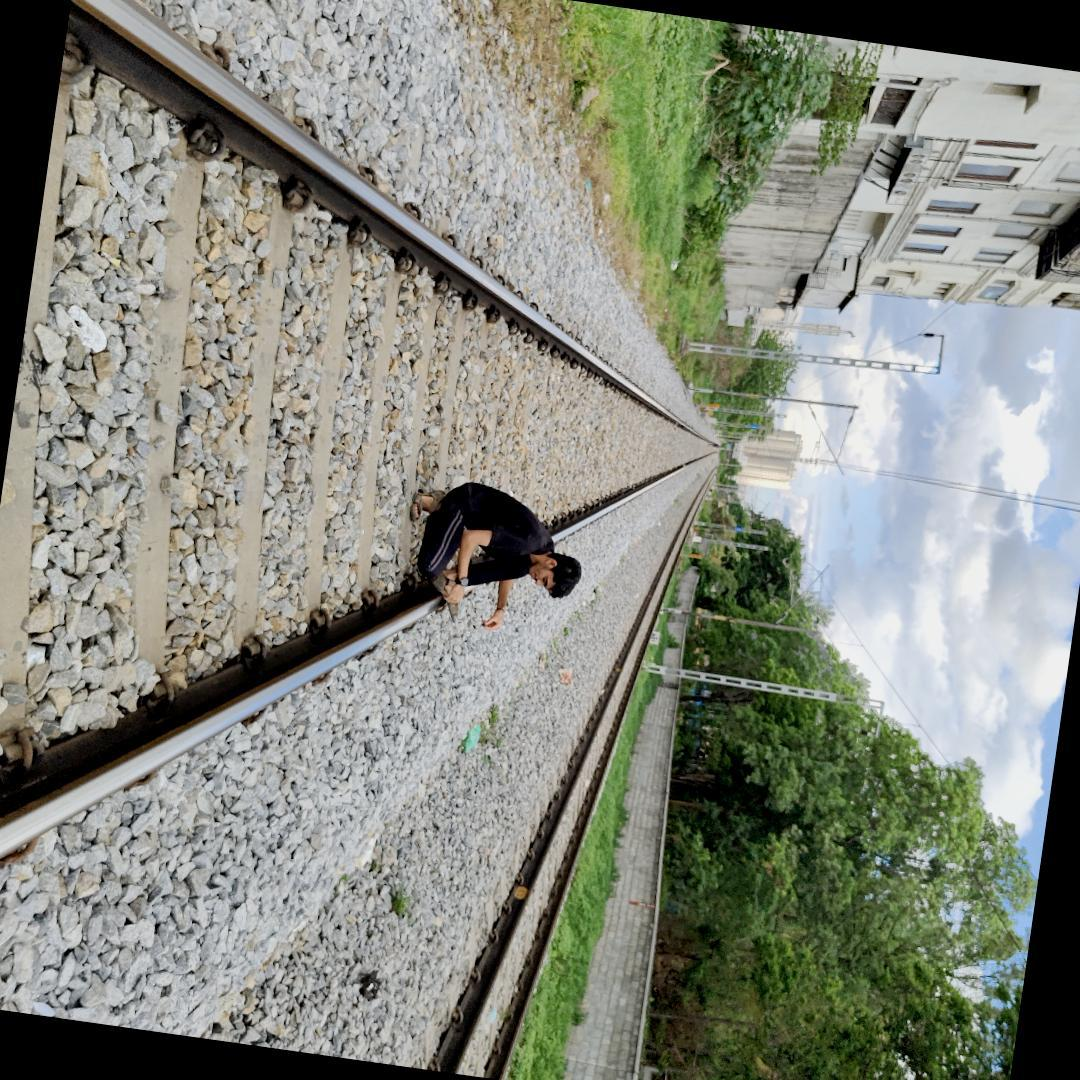sitting: (404, 477, 585, 634)
